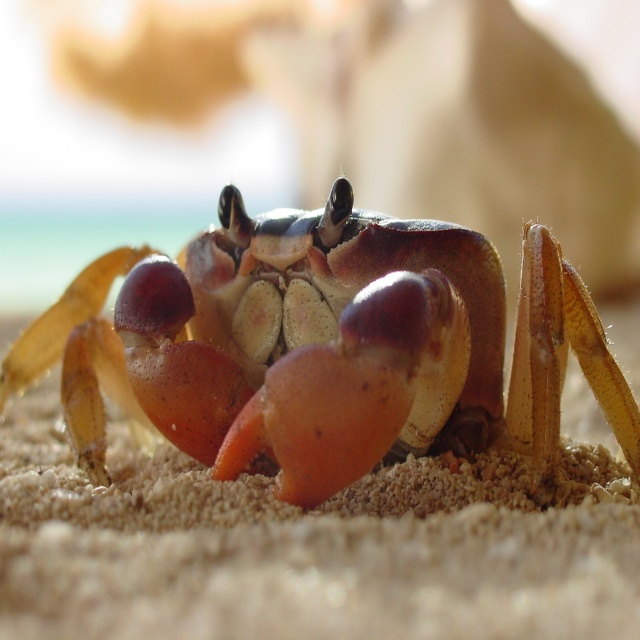Crab: (0, 170, 640, 509)
